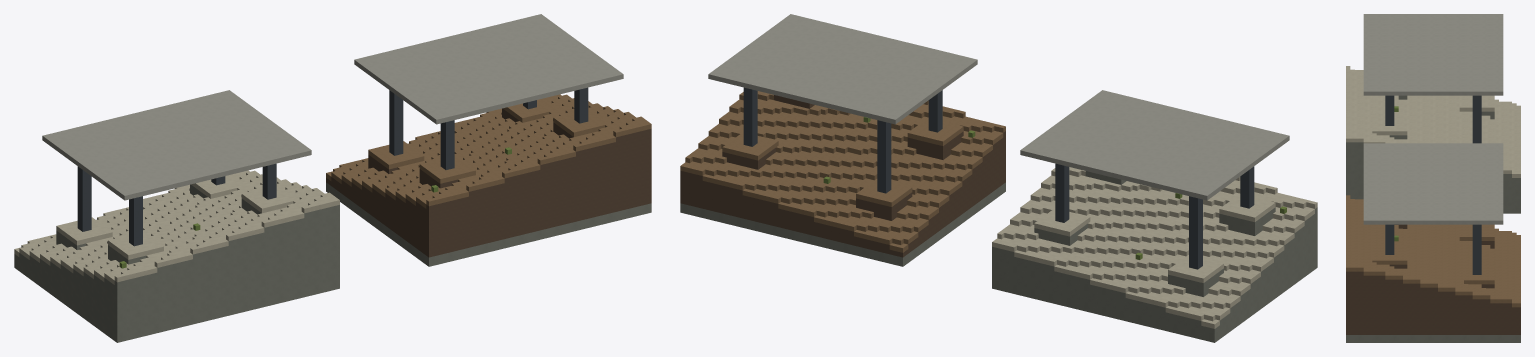
The picture shows the model from 3 angles, left to right: view 1: azimuth 30°, elevation 25°; view 2: azimuth 150°, elevation 25°; view 3: azimuth 270°, elevation 25°; orthographic projection. The views are drawn at different scales.
Parts seen in each view (by area): view 1: 多点接地基础与山体承托母版 (×2), 建筑域辅助四柱及楼板（不是ENV母版） (×2); view 2: 多点接地基础与山体承托母版 (×2), 建筑域辅助四柱及楼板（不是ENV母版） (×2); view 3: 多点接地基础与山体承托母版 (×2), 建筑域辅助四柱及楼板（不是ENV母版） (×2).
Boxes of the visible parts, x1=… form: 多点接地基础与山体承托母版 (×2): x1=14, y1=94, x2=651, y2=342; 建筑域辅助四柱及楼板（不是ENV母版） (×2): x1=42, y1=14, x2=623, y2=246; 多点接地基础与山体承托母版 (×2): x1=680, y1=91, x2=1317, y2=342; 建筑域辅助四柱及楼板（不是ENV母版） (×2): x1=708, y1=14, x2=1289, y2=269; 多点接地基础与山体承托母版 (×2): x1=1346, y1=66, x2=1520, y2=342; 建筑域辅助四柱及楼板（不是ENV母版） (×2): x1=1363, y1=14, x2=1503, y2=274.
Size of the model in its own units: 24 by 5.8 by 8.
Materials: 7 (7 with a texture image).
